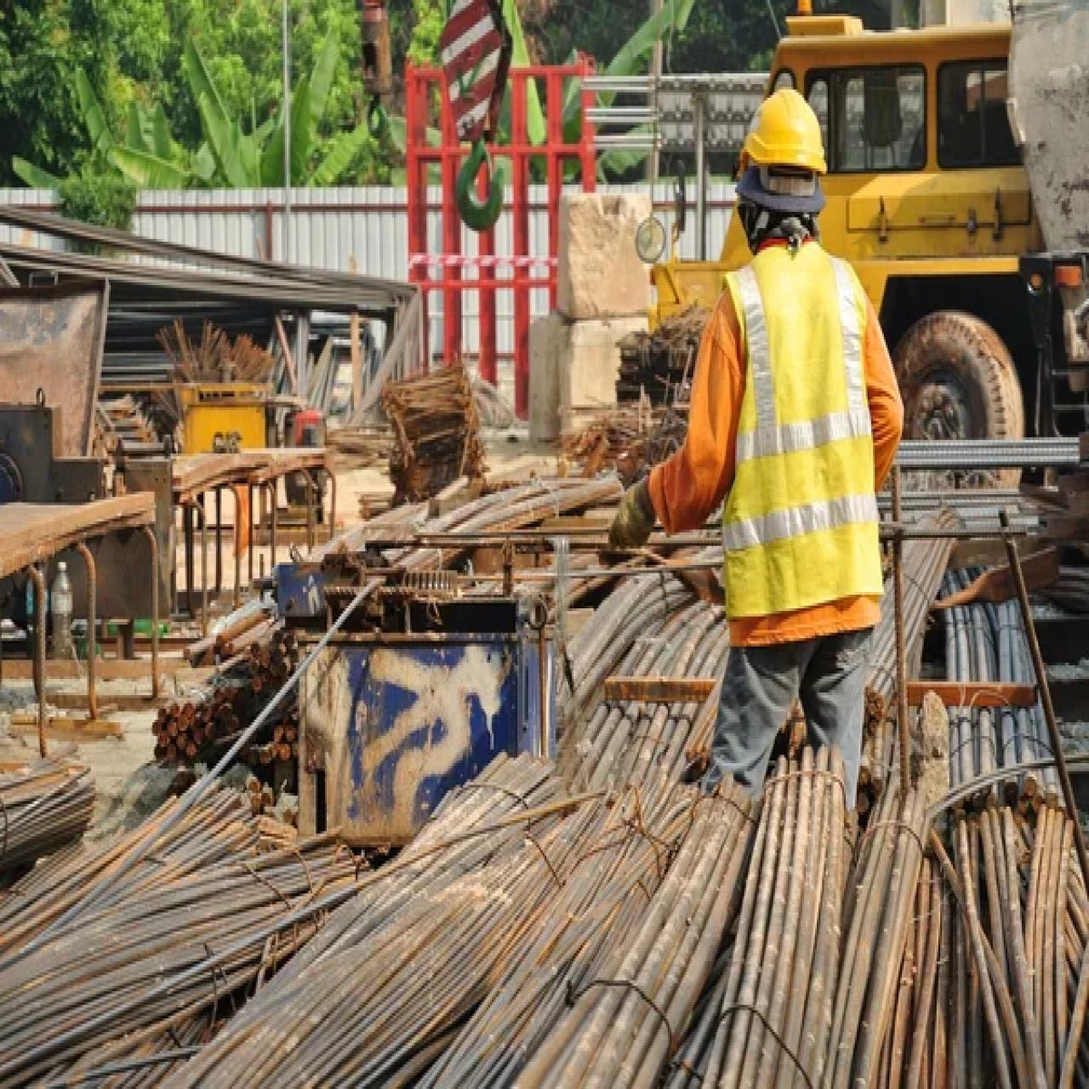Person: (600, 73, 922, 832)
Safety_Vest: (703, 245, 890, 630)
